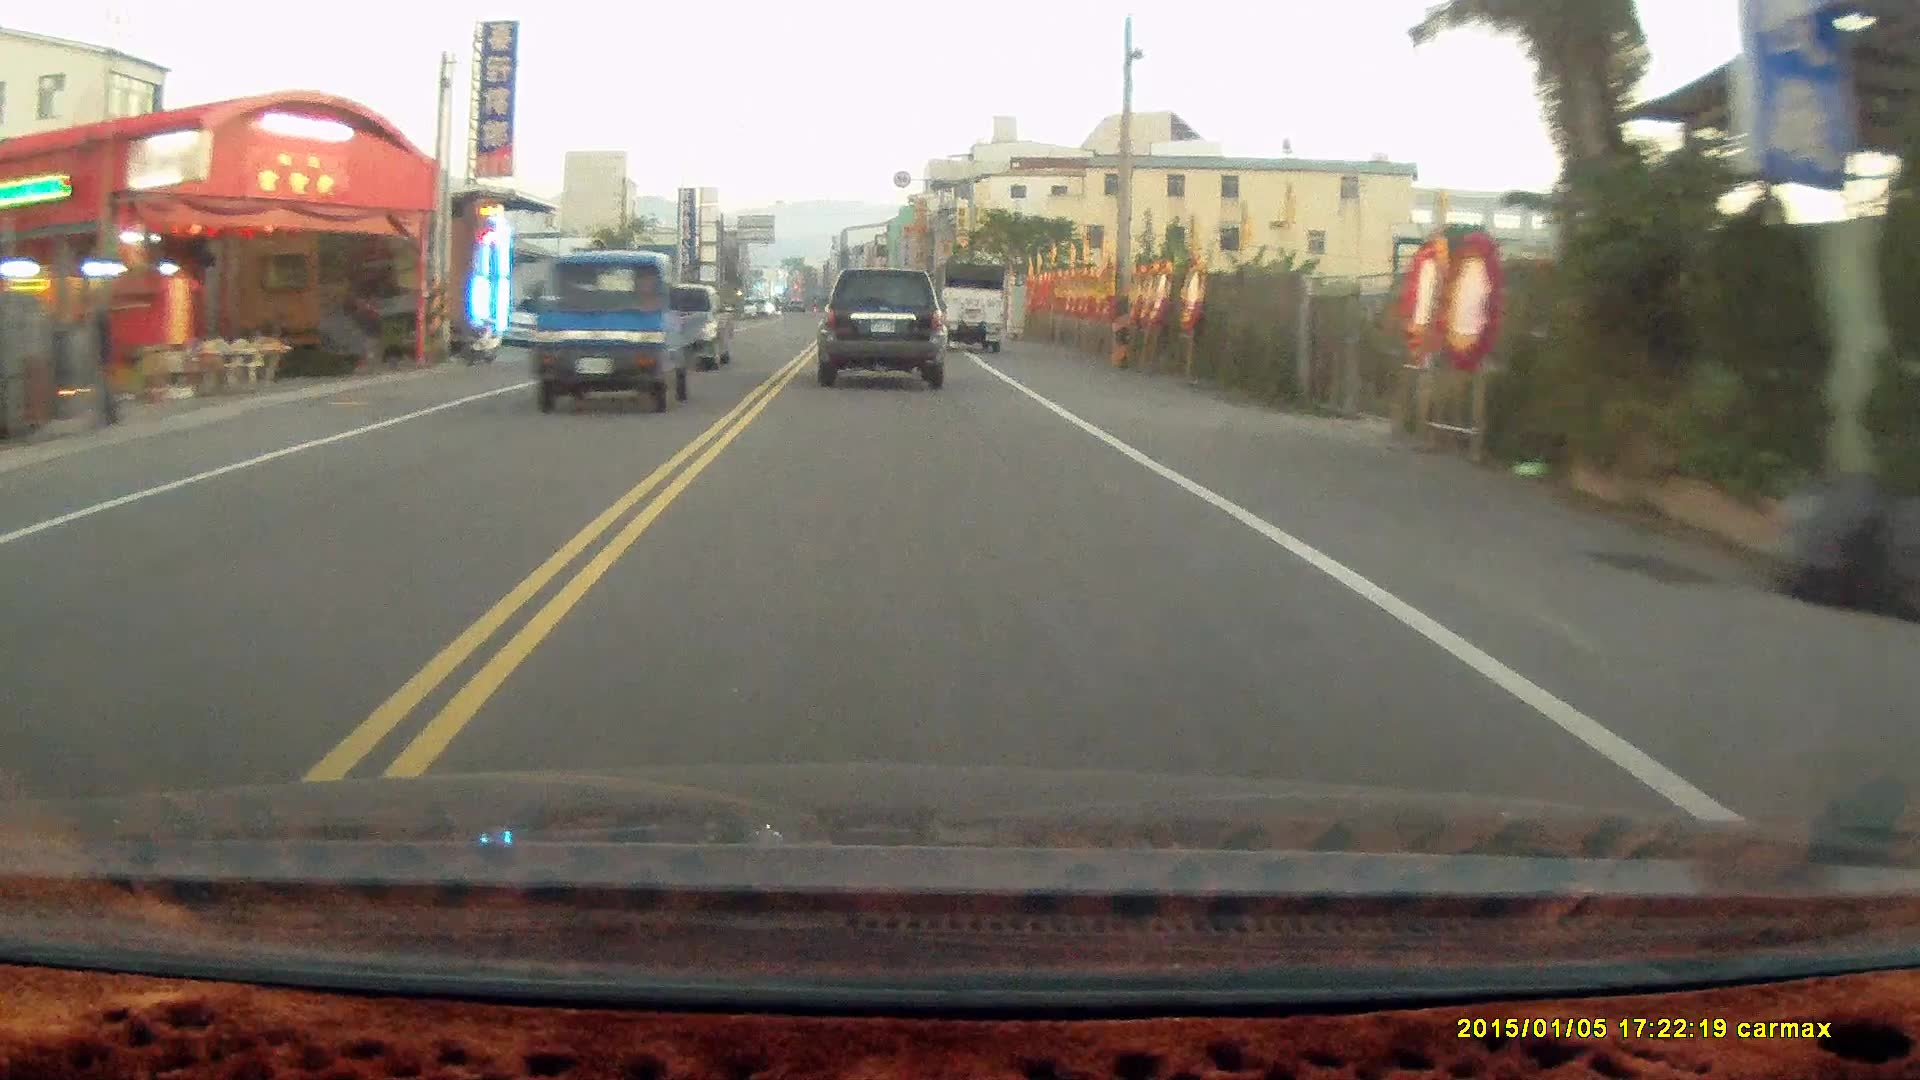vehicle: (517, 256, 717, 415), (819, 265, 956, 392), (938, 264, 1011, 359)
